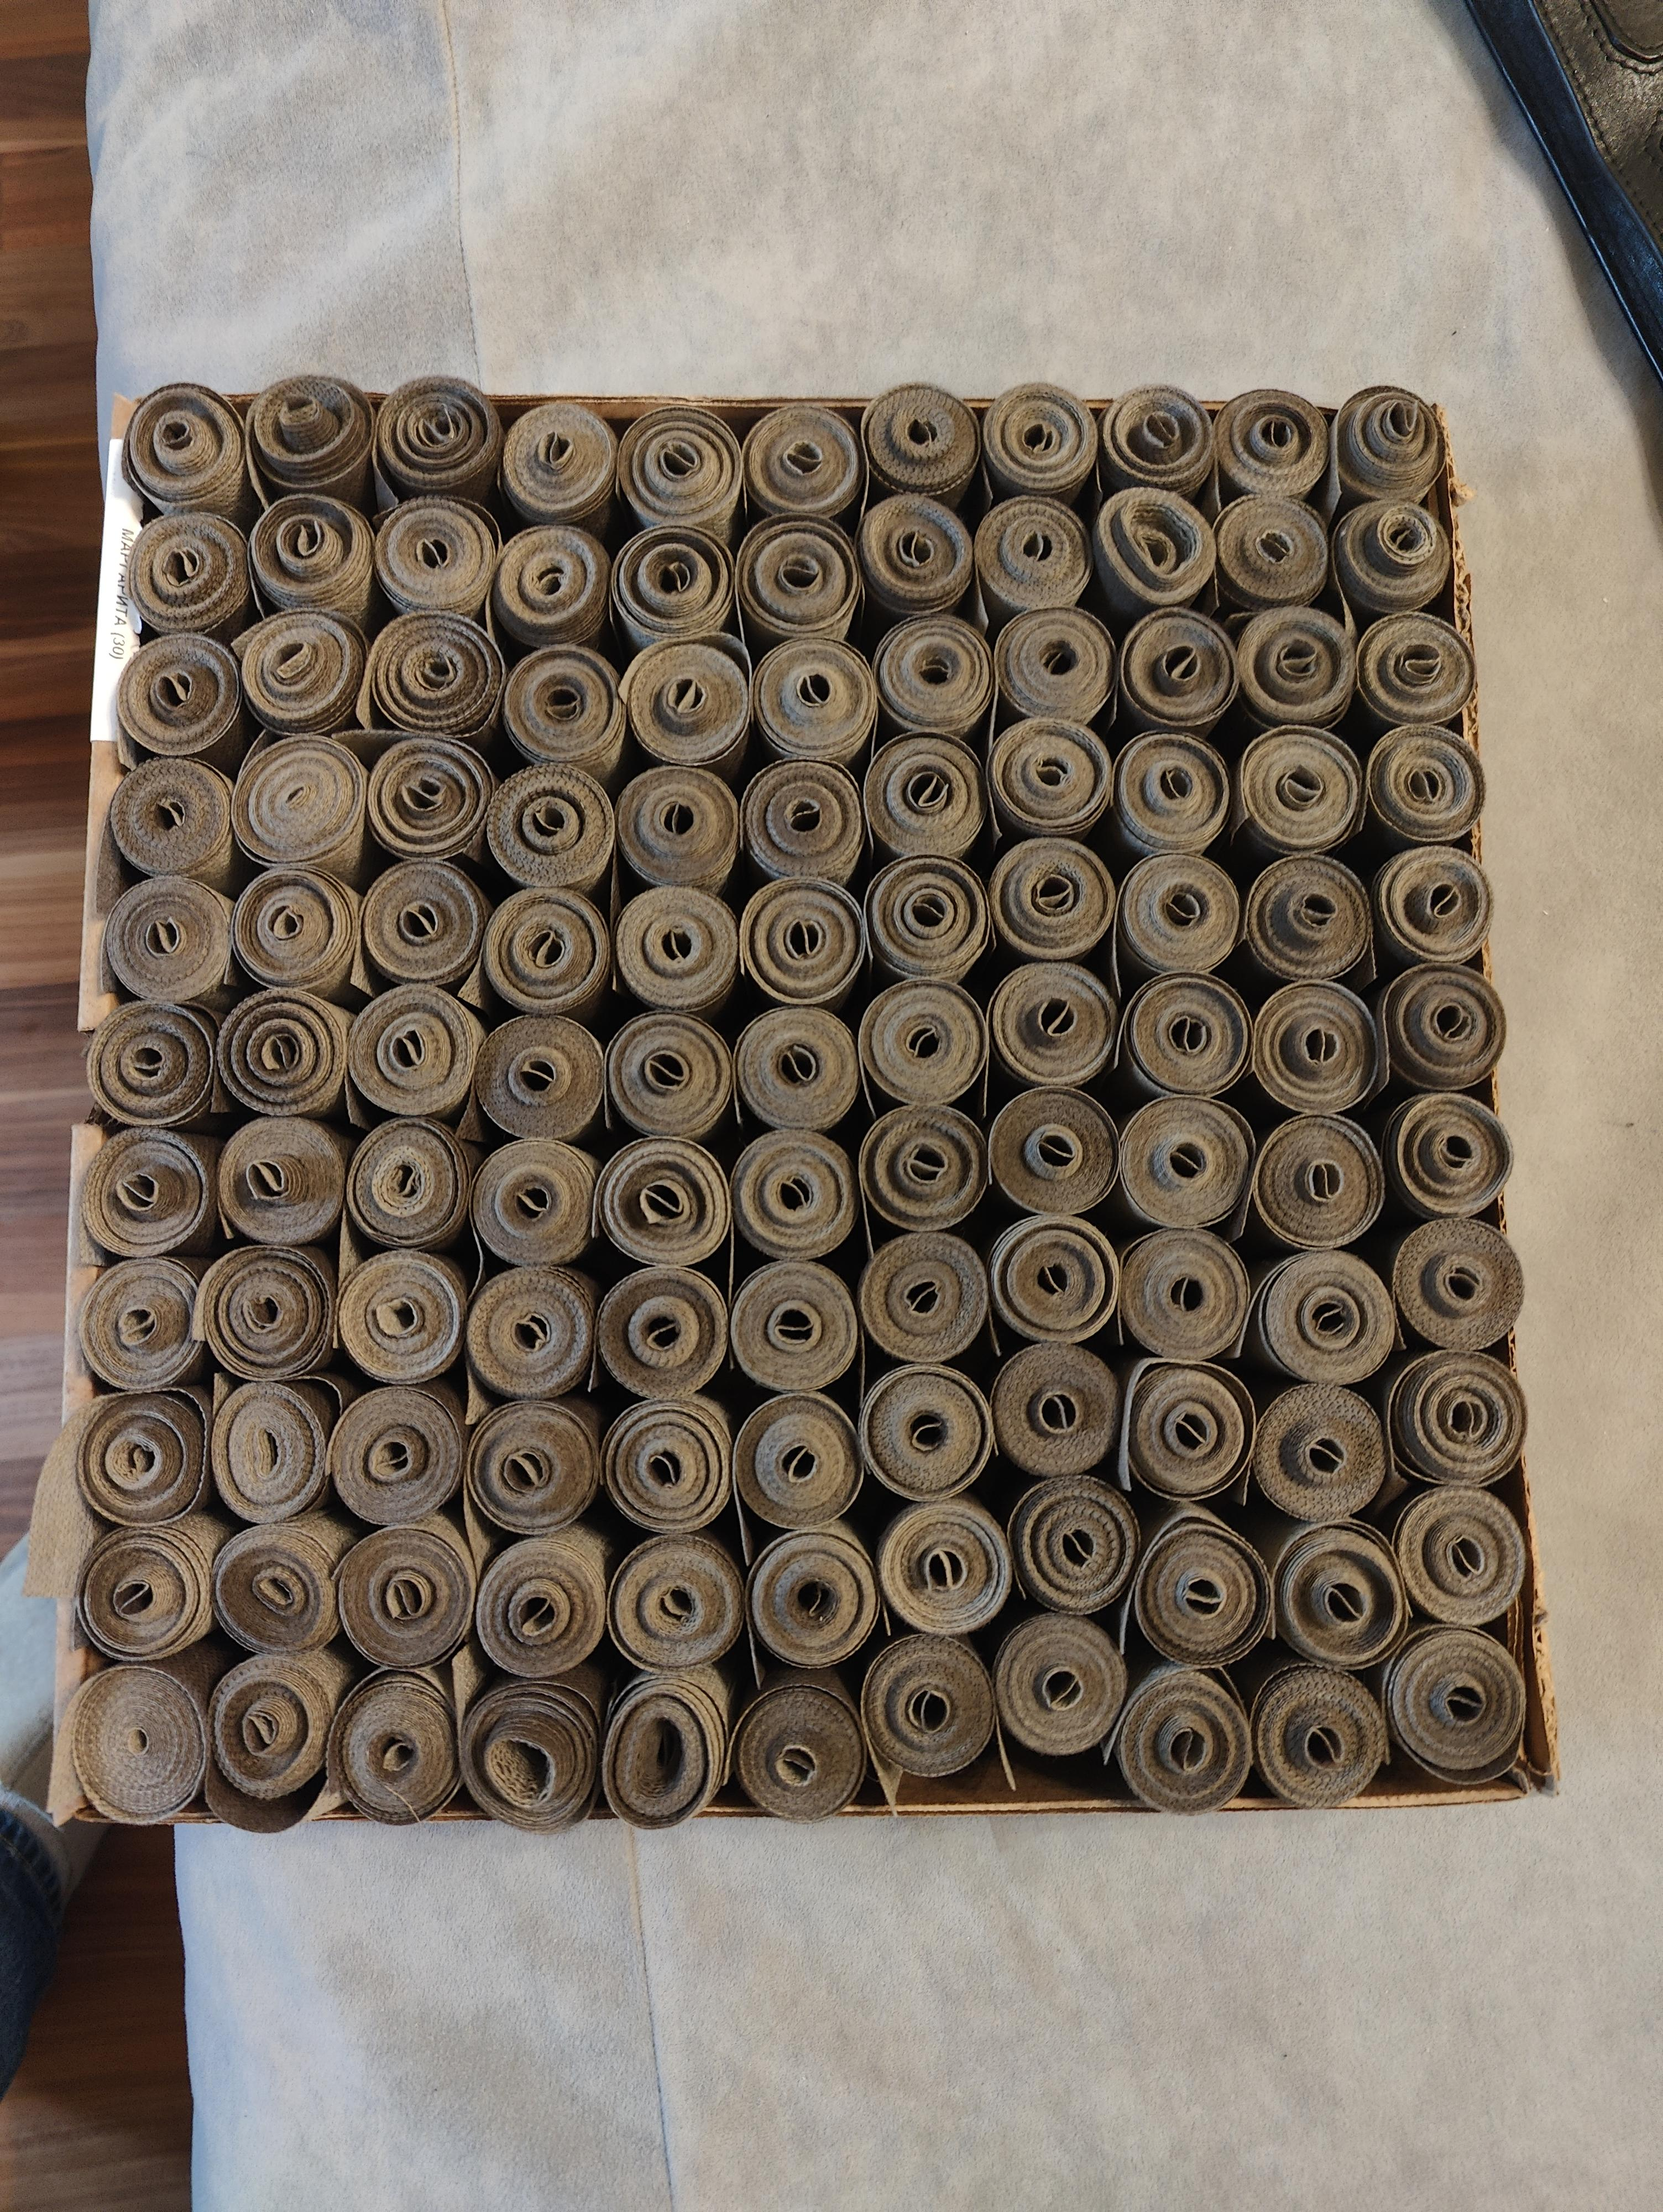roll: (63, 1658, 220, 1826), (203, 1642, 356, 1814), (456, 1674, 608, 1838), (1380, 1621, 1534, 1780), (470, 1525, 618, 1677), (1109, 1663, 1258, 1815), (72, 1518, 225, 1665), (327, 1665, 465, 1826), (325, 1384, 472, 1534), (597, 1667, 728, 1835), (334, 1517, 480, 1665), (206, 1510, 355, 1656), (1127, 1517, 1270, 1669), (990, 1609, 1132, 1763), (1249, 1382, 1396, 1529), (194, 1241, 339, 1389), (1251, 1244, 1399, 1389), (1389, 1480, 1535, 1625), (229, 730, 372, 879), (465, 1393, 608, 1541), (1266, 1520, 1410, 1669), (1247, 1660, 1390, 1808), (206, 1373, 344, 1527), (1385, 1345, 1532, 1489), (1116, 1356, 1258, 1504), (859, 1630, 997, 1782), (1249, 1108, 1392, 1253), (72, 1387, 213, 1534), (334, 1242, 475, 1387), (121, 379, 253, 533), (79, 1118, 222, 1260), (1249, 978, 1390, 1122), (1114, 1090, 1258, 1232), (344, 980, 484, 1125), (873, 1496, 1013, 1641), (463, 1260, 603, 1405), (987, 1340, 1127, 1483), (360, 610, 505, 748), (604, 1531, 742, 1676), (75, 1251, 215, 1393), (213, 982, 355, 1122), (477, 882, 617, 1024), (213, 1109, 353, 1251), (1387, 1213, 1528, 1352), (1114, 1225, 1256, 1365), (1382, 1087, 1523, 1227), (859, 1363, 997, 1506), (854, 1227, 992, 1370), (594, 1263, 730, 1408), (103, 751, 239, 896), (597, 1394, 734, 1538), (370, 374, 505, 519), (1006, 1475, 1141, 1620), (482, 760, 620, 900), (592, 1132, 730, 1272), (1373, 959, 1513, 1097), (985, 1211, 1125, 1349), (728, 1674, 854, 1826), (100, 872, 238, 1010), (358, 854, 496, 992), (112, 631, 248, 771), (468, 1134, 604, 1274), (987, 1083, 1123, 1223), (342, 1111, 477, 1253), (601, 1006, 735, 1148), (615, 634, 748, 778), (362, 732, 500, 868), (856, 1101, 992, 1239), (1240, 851, 1378, 987), (243, 372, 374, 515), (229, 861, 365, 998), (86, 994, 222, 1130), (1120, 968, 1256, 1104), (122, 508, 257, 646), (854, 977, 989, 1115), (1233, 722, 1368, 860), (498, 643, 631, 783), (744, 1525, 875, 1667), (472, 1010, 608, 1144), (985, 957, 1121, 1092), (1090, 486, 1218, 629), (1114, 847, 1247, 984), (610, 762, 739, 902), (611, 881, 741, 1020), (496, 398, 622, 542), (246, 491, 377, 627), (234, 610, 370, 741), (861, 851, 992, 987), (370, 496, 503, 629), (985, 833, 1118, 966), (739, 875, 866, 1013), (1114, 605, 1242, 743), (970, 494, 1095, 634), (727, 1256, 852, 1396), (730, 1127, 852, 1270), (617, 404, 737, 549), (1228, 603, 1359, 736), (487, 522, 617, 657), (990, 605, 1118, 741), (734, 1001, 859, 1139), (739, 1389, 865, 1527), (859, 730, 990, 861), (1370, 842, 1501, 973), (741, 755, 866, 891), (987, 709, 1116, 840), (1363, 720, 1490, 853), (856, 383, 976, 522), (1108, 729, 1235, 860), (1352, 610, 1480, 739), (978, 381, 1101, 515), (856, 493, 976, 629), (1331, 498, 1457, 627), (1328, 383, 1450, 515), (1211, 386, 1336, 514), (868, 612, 994, 739), (610, 522, 732, 653), (1209, 491, 1335, 617), (749, 634, 873, 762), (1097, 381, 1219, 510), (734, 510, 852, 643), (735, 404, 852, 538)
